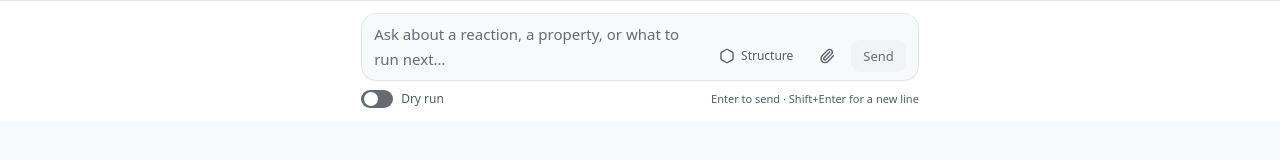
Scenario: the composer against a tuned cap › ignores a cap that would refuse every message
Type "a real question" into the text box named "Message" at (538, 47), box [374,22,701,72]
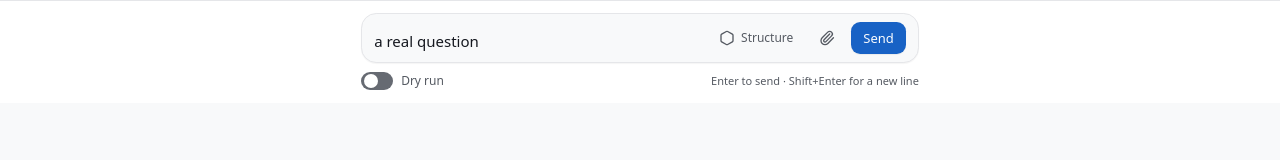
Expected: the button labelled "Send" is enabled, [851,22,906,54]
